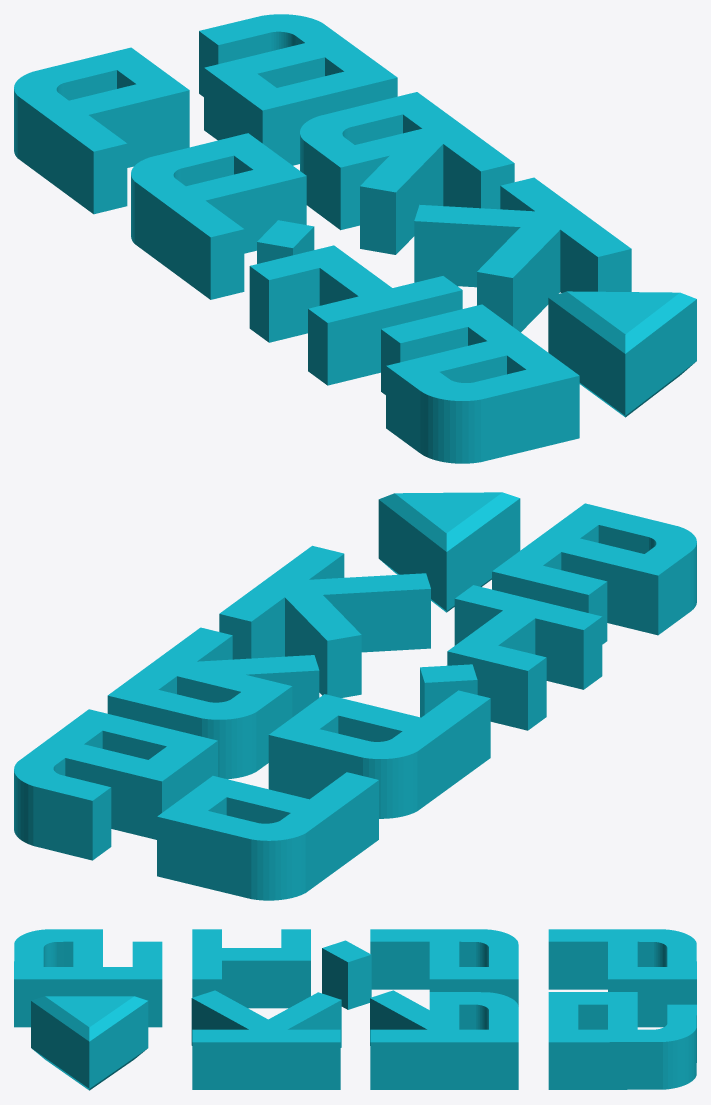
File: title.dae
3 renders of one model, top to bottom at view 1: azimuth 30°, elevation 25°; view 2: azimuth 150°, elevation 25°; view 3: azimuth 270°, elevation 25°, orthographic. The views are drawn at different scales.
Visible parts, largest first — view 1: A7, R4, P1, K6, P3, A2, I5, playButton; view 2: P1, A2, P3, K6, A7, R4, I5, playButton; view 3: R4, K6, A2, P1, I5, A7, P3, playButton.
Boxes of the visible parts, x1,y1,x2,y2 form: A7: [381, 304, 579, 463]; R4: [300, 92, 514, 254]; P1: [14, 47, 189, 214]; K6: [414, 177, 631, 332]; P3: [131, 133, 306, 299]; A2: [199, 14, 397, 165]; I5: [249, 220, 462, 385]; playButton: [548, 291, 696, 417]; P1: [157, 772, 378, 900]; A2: [14, 709, 217, 860]; P3: [268, 690, 490, 818]; K6: [219, 545, 430, 697]; A7: [492, 503, 696, 644]; R4: [107, 627, 319, 779]; I5: [420, 585, 602, 730]; playButton: [378, 492, 520, 612]; R4: [370, 990, 518, 1089]; K6: [191, 990, 341, 1089]; A2: [548, 992, 696, 1089]; P1: [548, 929, 696, 1027]; I5: [192, 929, 371, 1009]; A7: [14, 929, 162, 1027]; P3: [370, 929, 518, 1006]; playButton: [31, 996, 148, 1090].
Size of the model in its own units: 10.16 by 25.96 by 2.65.
